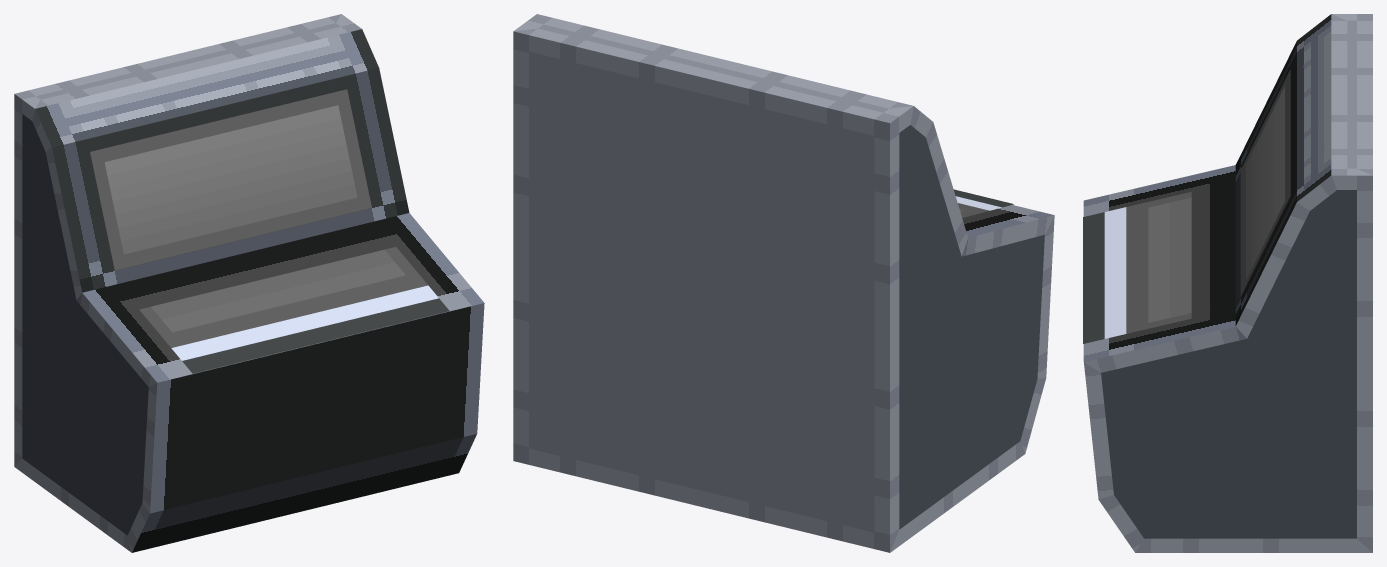
The model's file is computer_frame.glb.
3 views of the same model, side by side, from view 1: azimuth 30°, elevation 25°; view 2: azimuth 150°, elevation 25°; view 3: azimuth 270°, elevation 25° (orthographic). The views are drawn at different scales.
Parts seen in each view (by area): view 1: Console_Housing, Empty_Monitor_Interior, Empty_Keyboard_Bay; view 2: Console_Housing, Empty_Keyboard_Bay; view 3: Console_Housing, Empty_Keyboard_Bay, Empty_Monitor_Interior.
Boxes of the visible parts, x1=… form: Console_Housing: x1=14, y1=14, x2=484, y2=552; Empty_Monitor_Interior: x1=90, y1=89, x2=371, y2=270; Empty_Keyboard_Bay: x1=139, y1=247, x2=449, y2=373; Console_Housing: x1=513, y1=14, x2=1054, y2=552; Empty_Keyboard_Bay: x1=953, y1=189, x2=1013, y2=217; Console_Housing: x1=1083, y1=14, x2=1372, y2=552; Empty_Keyboard_Bay: x1=1083, y1=192, x2=1191, y2=343; Empty_Monitor_Interior: x1=1240, y1=69, x2=1290, y2=296.
Size of what is drawn, in the model's own units: 1.56 by 1.7 by 1.18.
Materials: 3 (3 with a texture image).
